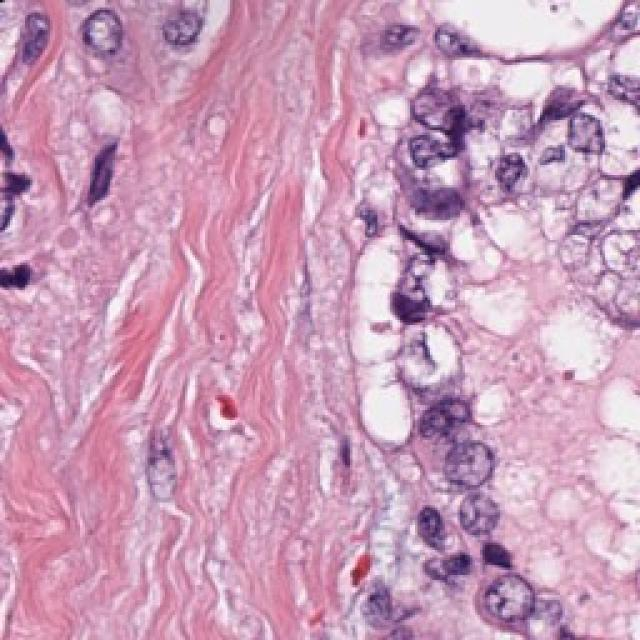abnormal: (368, 313, 477, 392), (380, 373, 487, 450), (377, 115, 473, 197), (370, 247, 470, 320), (403, 435, 510, 498), (556, 95, 640, 171), (387, 181, 478, 251), (395, 68, 490, 135), (408, 486, 520, 542), (462, 570, 558, 622)
